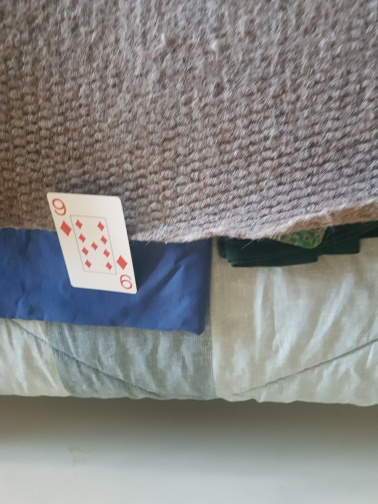nine: (47, 192, 136, 297)
